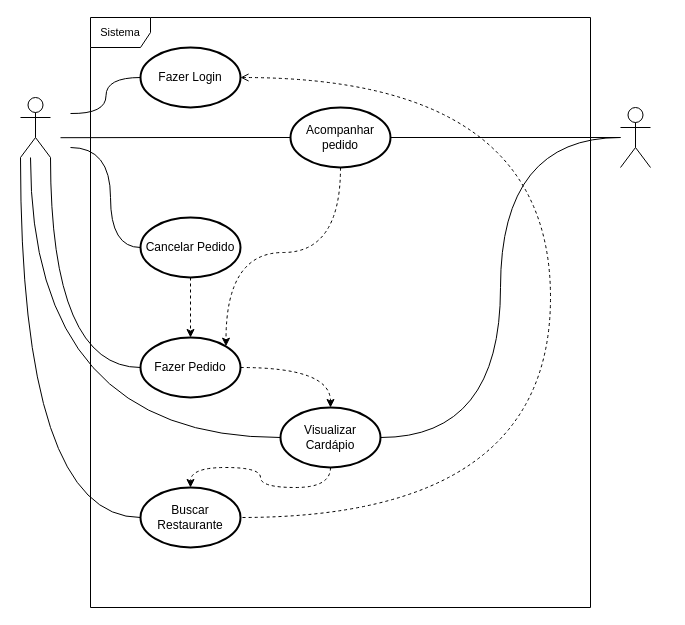
Some shapes in this 685 by 625 pixel diagram are drawn without their labels. The shapes that lost their labels are listed below. From the top down, each one's centre as x and y in pixels, then its label:
At point 35,127: "Cliente".
At point 635,137: "Restaurante".
